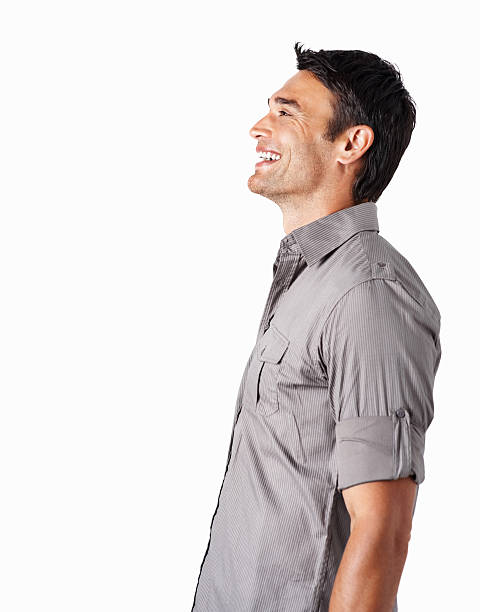Male: (148, 41, 449, 612)
